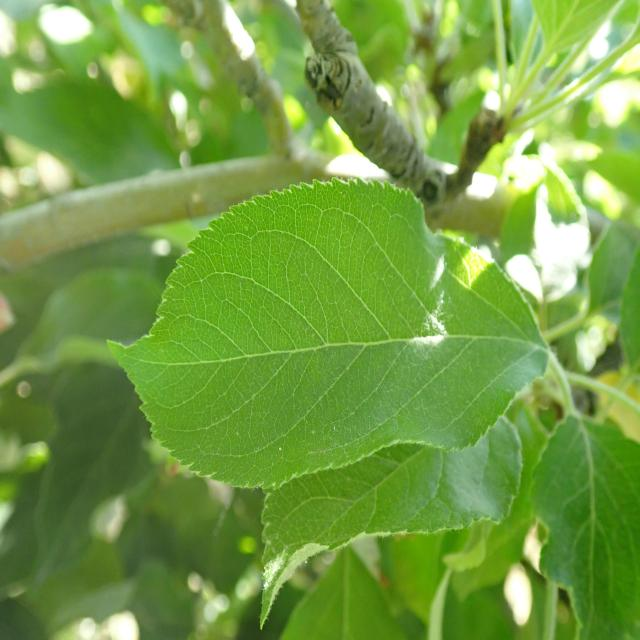healthy: (105, 175, 552, 492), (259, 409, 525, 640), (527, 413, 640, 640)
